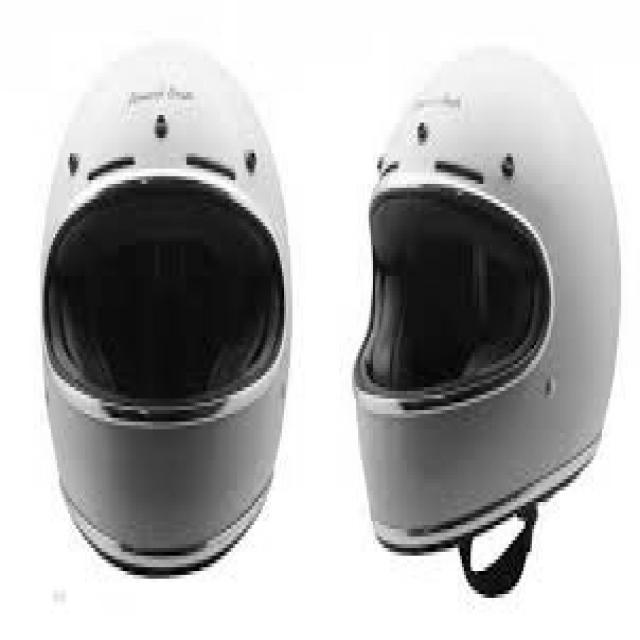Helmet: (47, 37, 622, 582)
